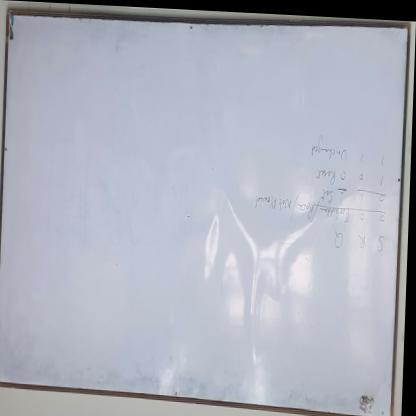Handwritten text: (307, 126, 352, 162), (334, 221, 387, 251), (255, 182, 294, 215), (320, 193, 353, 222), (315, 160, 340, 182), (297, 190, 315, 217), (320, 181, 337, 202)
Whiteboard: (0, 3, 412, 416)
